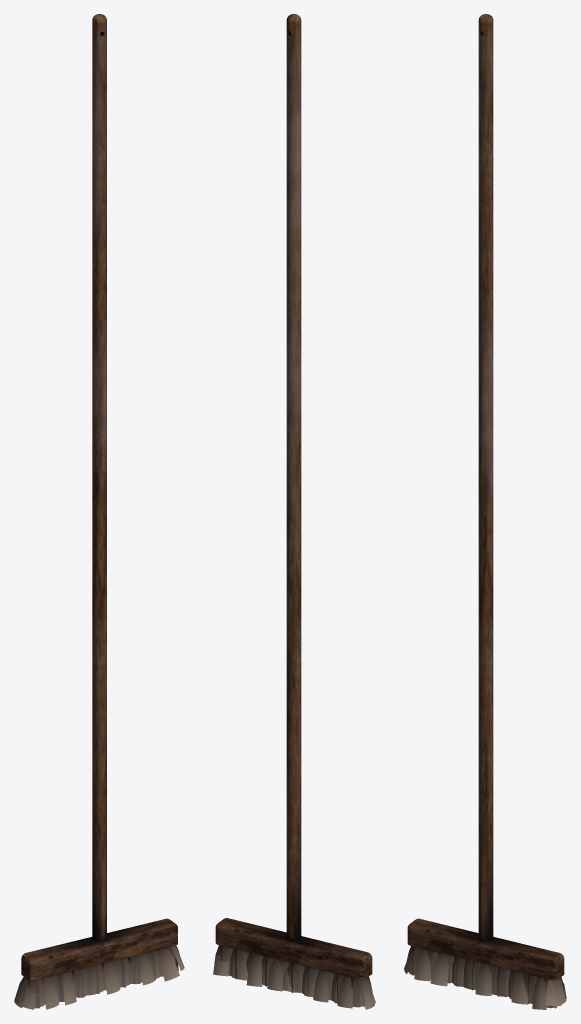
File: broom_-_escoba.glb
The picture shows the model from 3 angles, left to right: view 1: azimuth 30°, elevation 25°; view 2: azimuth 150°, elevation 25°; view 3: azimuth 330°, elevation 25°; orthographic projection.
Visible parts, largest first — view 1: Object_2; view 2: Object_2; view 3: Object_2.
Boxes of the visible parts, bbox=[...] form: Object_2: bbox=[14, 14, 184, 1009]; Object_2: bbox=[213, 14, 375, 1009]; Object_2: bbox=[404, 14, 566, 1009].
Size of the model in its own units: 25.13 by 145 by 5.95.
1 material, 1 textured.
